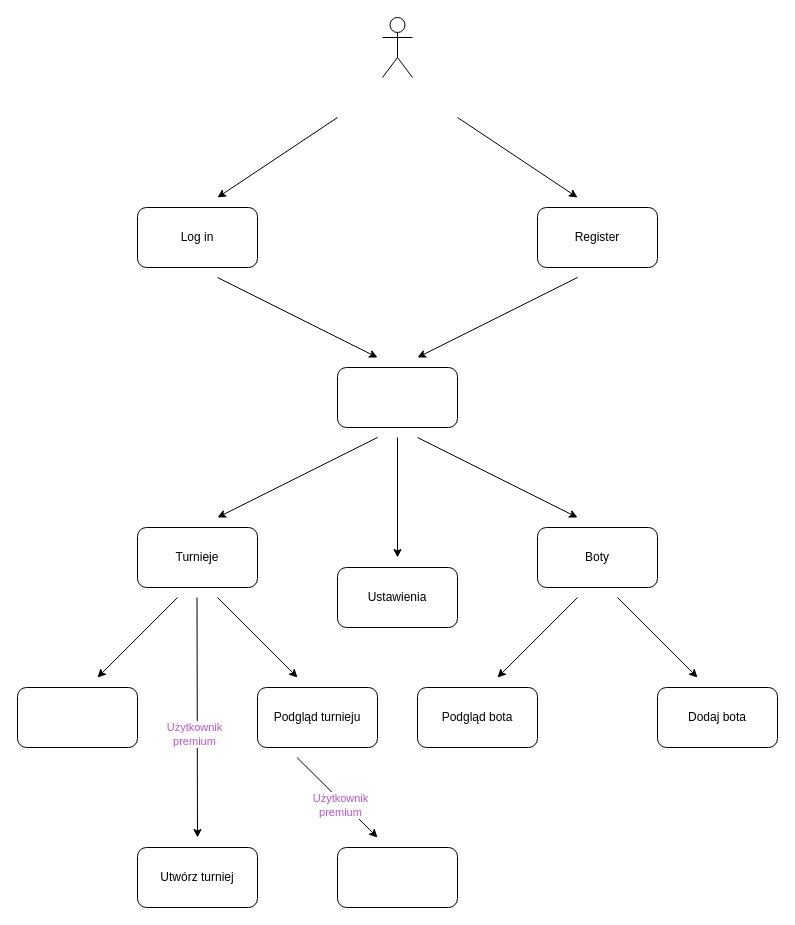
This 795x925 diagram has some shape labels left out. The box of each missing label's shape, as (x1, y1, x2, y2) in pixels:
Dashboard: (336, 366, 458, 428)
Dołącz do turnieju: (16, 686, 138, 748)
User: (382, 16, 412, 78)
Zarządzaj turniejem: (336, 846, 458, 908)
